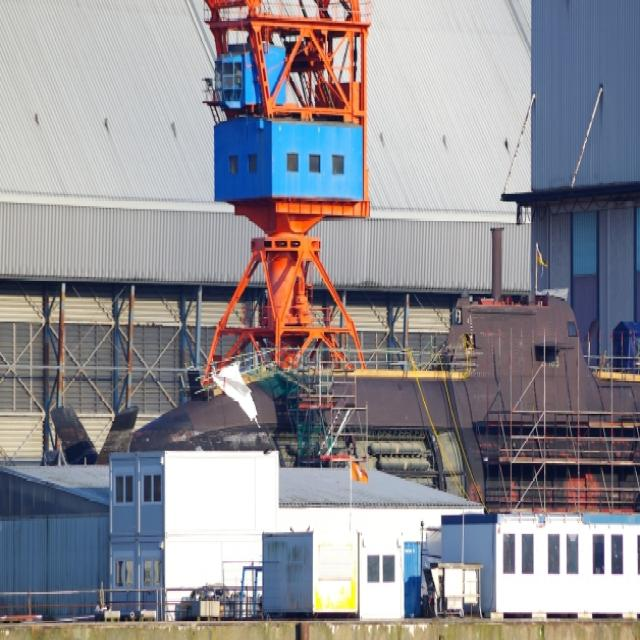submarine: (81, 278, 640, 469)
